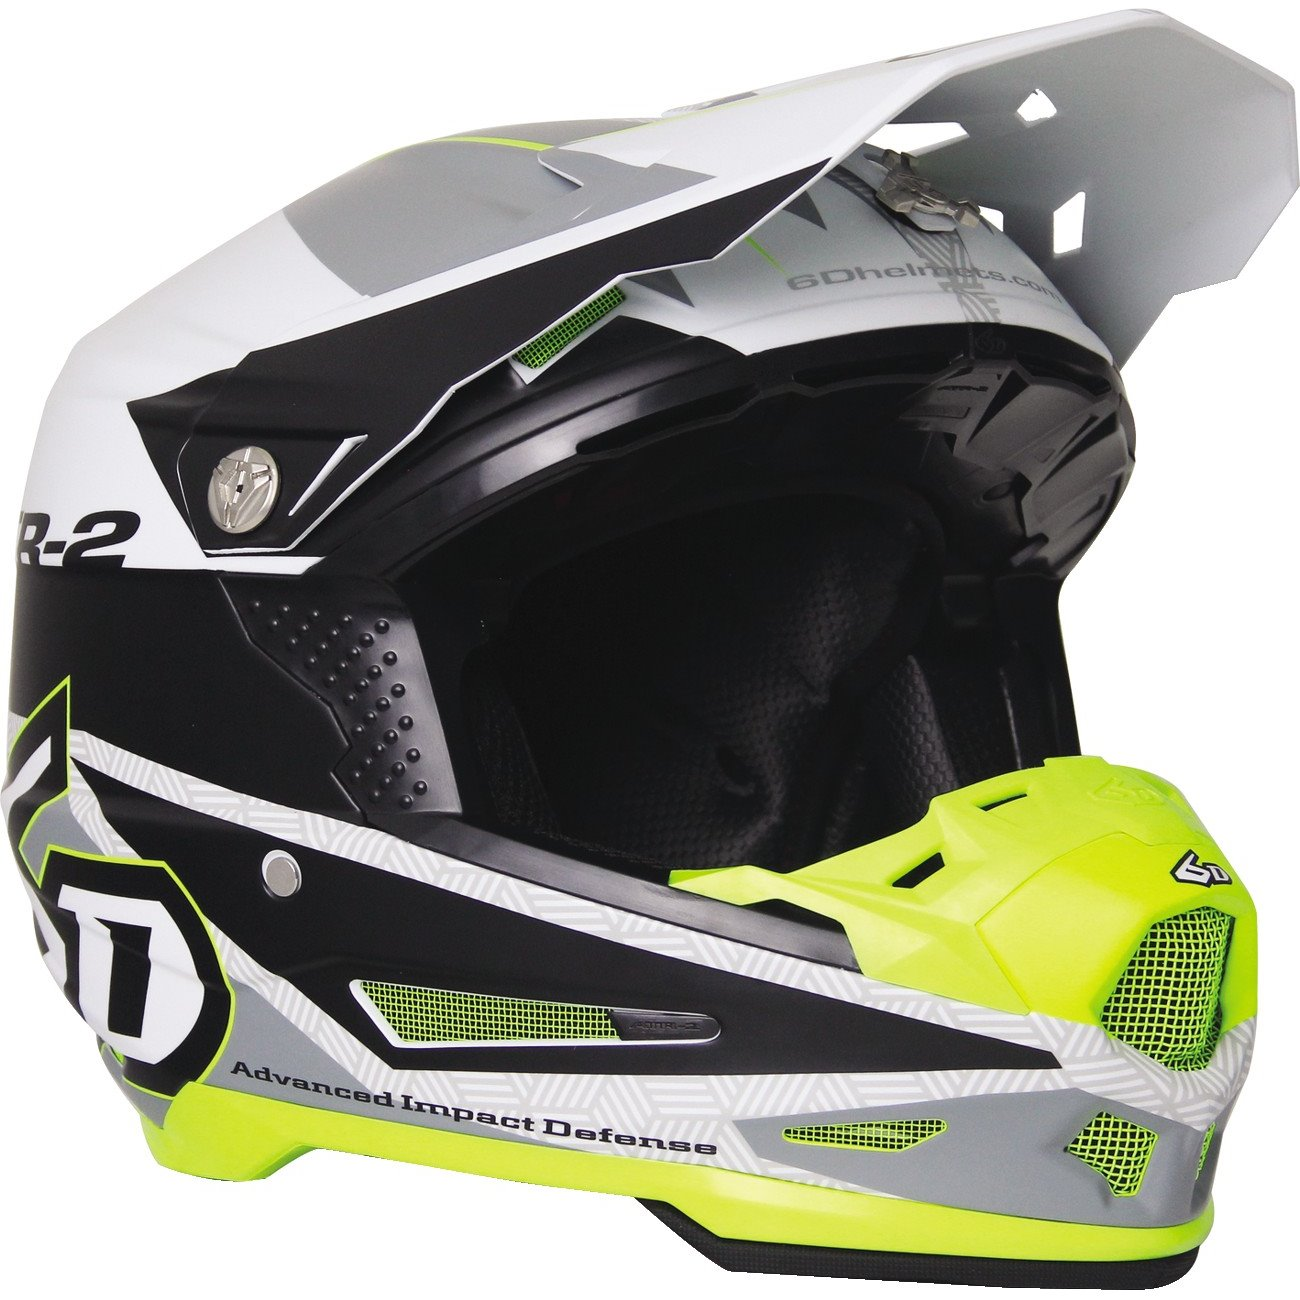with_helmet: (6, 4, 1280, 1290)
